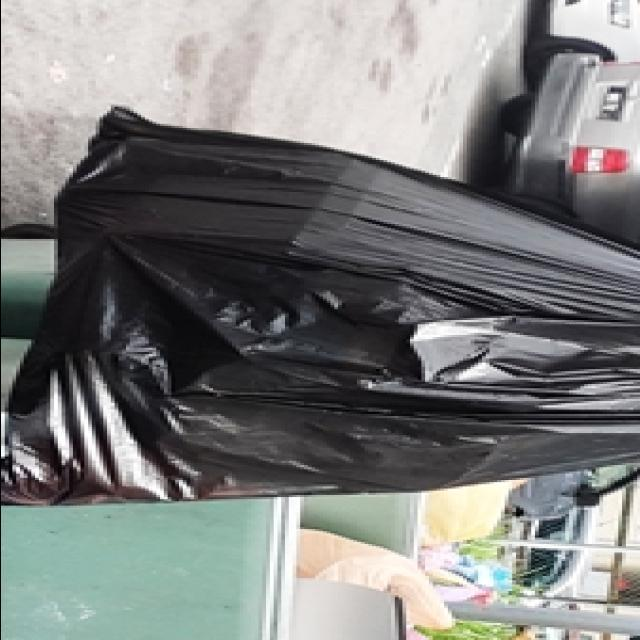Trashbag: (7, 95, 640, 530)
